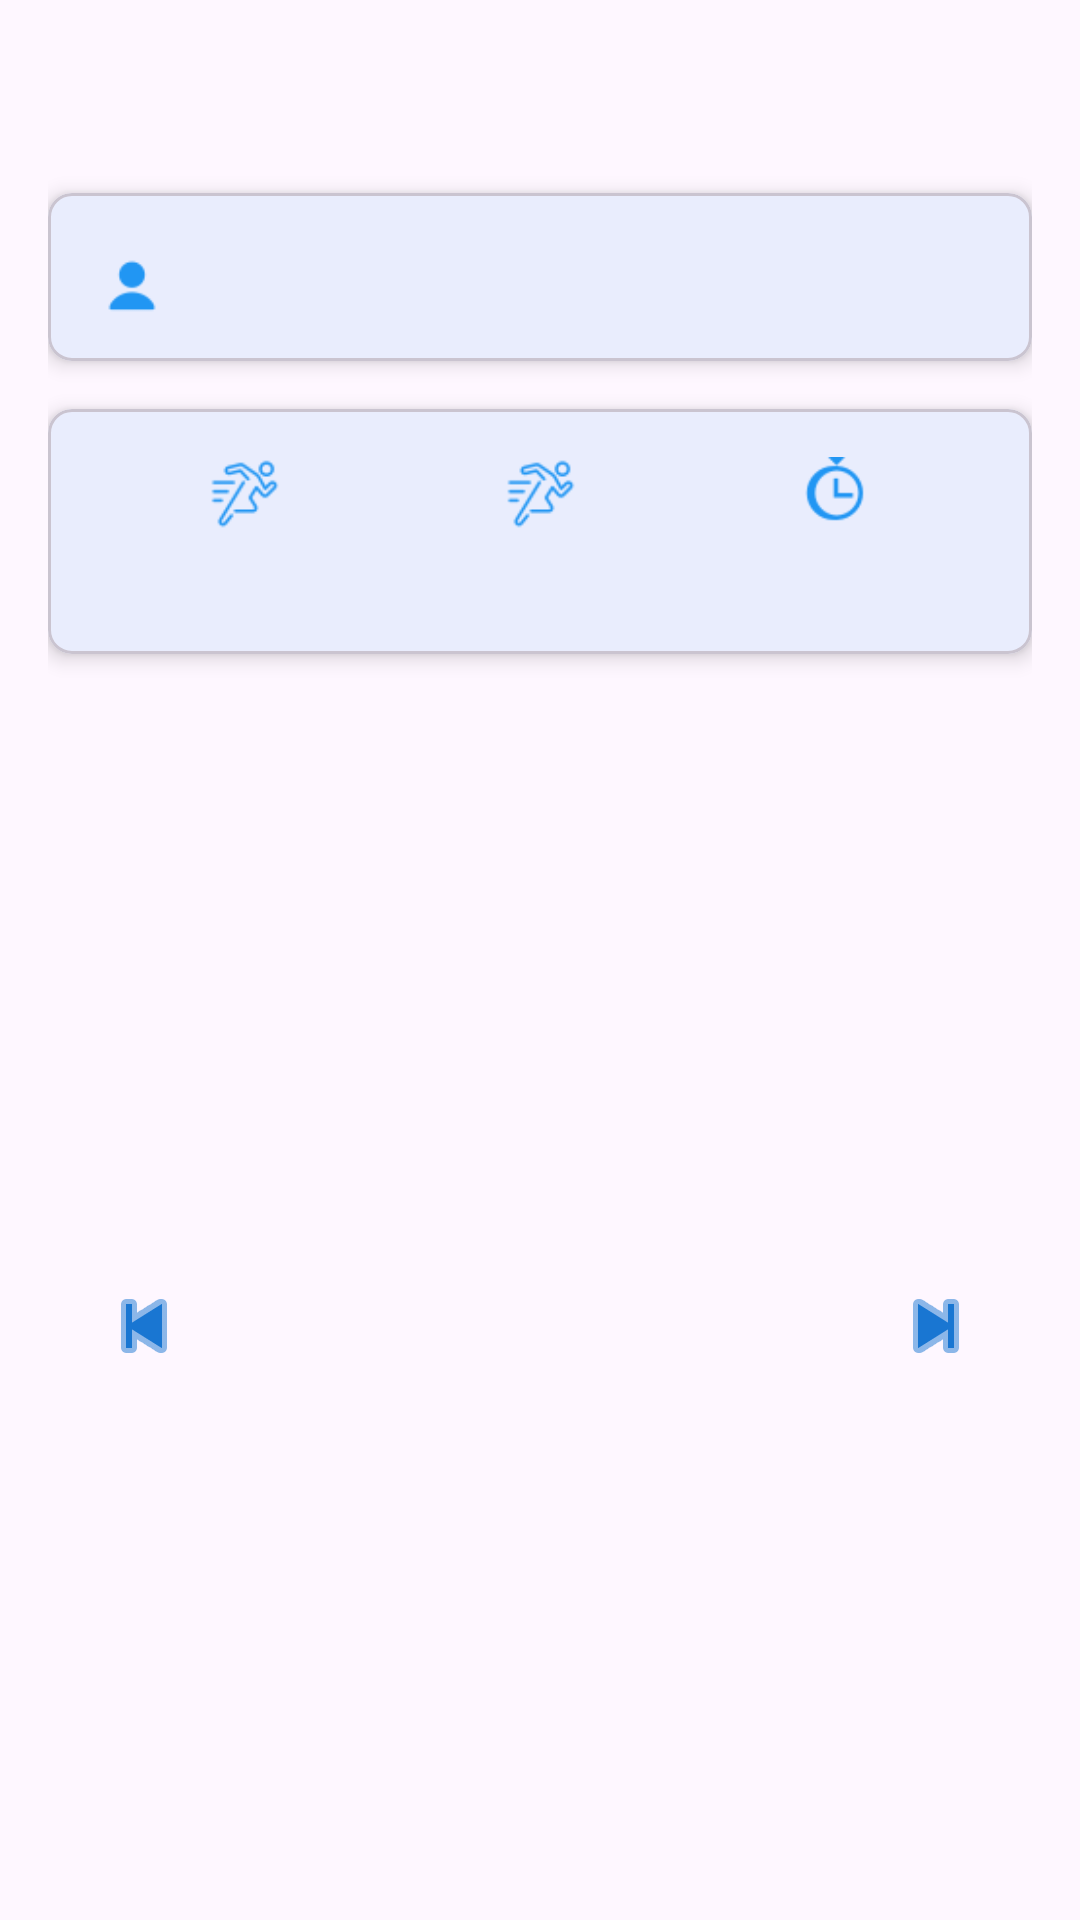

Icon bounding boxes for this 1080x1920 phone screenshot, format detection(x1, y1, x2, y2):
Next Image: detection(913, 1299, 959, 1353)
Previous Image: detection(121, 1299, 167, 1353)
Rest Time: detection(806, 457, 864, 521)
